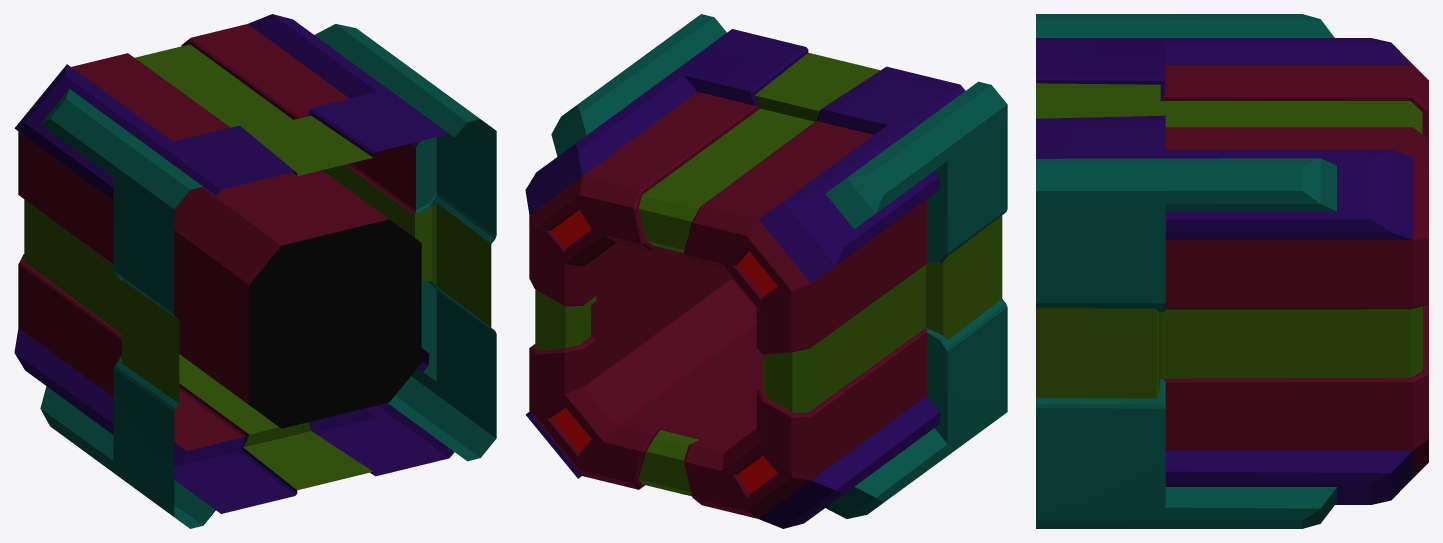
The model's file is OBJ_Spawn_drone.fbx.
3 views of the same model, side by side, from view 1: azimuth 30°, elevation 25°; view 2: azimuth 150°, elevation 25°; view 3: azimuth 270°, elevation 25° (orthographic). The views are drawn at different scales.
Parts seen in each view (by area): view 1: Base; view 2: Base; view 3: Base.
Part boxes in pixels (bbox=[...]): Base: bbox=[14, 14, 496, 528]; Base: bbox=[525, 14, 1007, 528]; Base: bbox=[1036, 14, 1428, 528].
Bounding box in the file's own units: 424 × 426 × 415.
